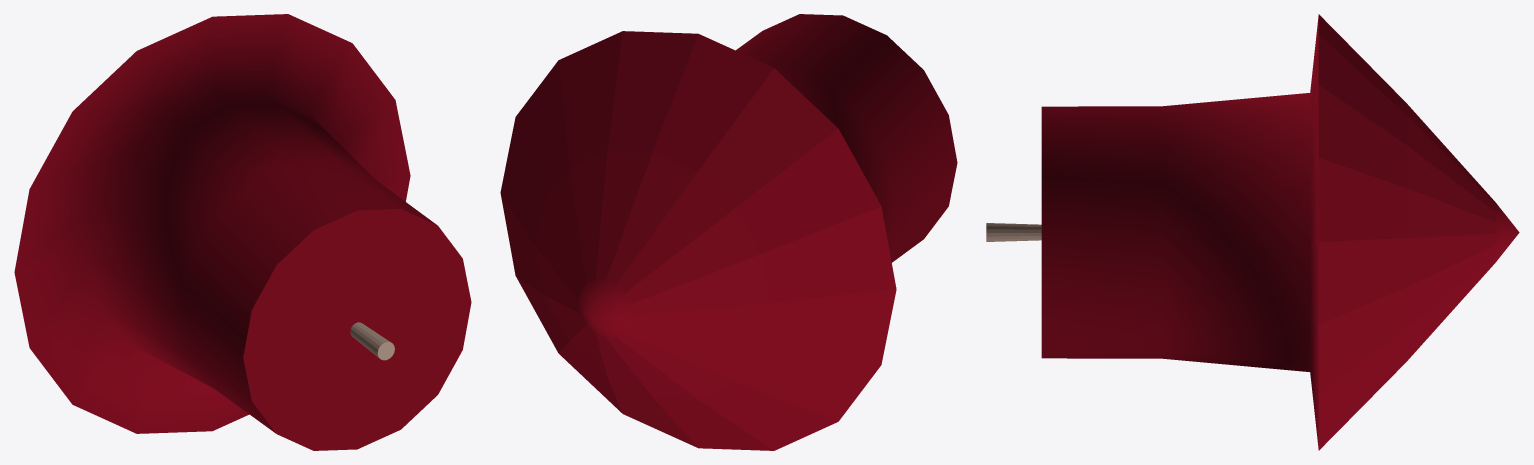
Rendered from rocket.obj.
3 renders of one model, left to right at view 1: azimuth 30°, elevation 25°; view 2: azimuth 150°, elevation 25°; view 3: azimuth 270°, elevation 25°, orthographic. The views are drawn at different scales.
Parts seen in each view (by area): view 1: pCylinder2; view 2: pCylinder2; view 3: pCylinder2.
Boxes of the visible parts, box(x1,y1,x2,y2) form: pCylinder2: box(14, 14, 471, 450); pCylinder2: box(500, 14, 957, 450); pCylinder2: box(986, 14, 1519, 450).
Size of the model in its own units: 0.5708 by 0.5709 by 0.6958.
1 material, 1 textured.
